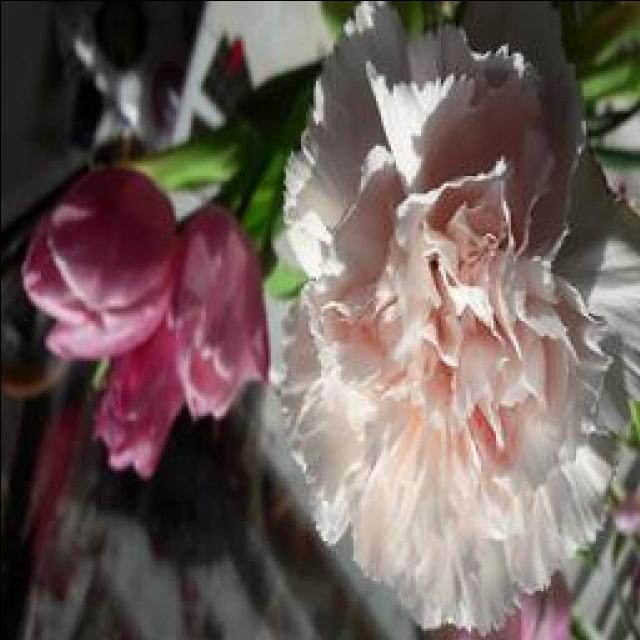carnation: (252, 5, 636, 623)
